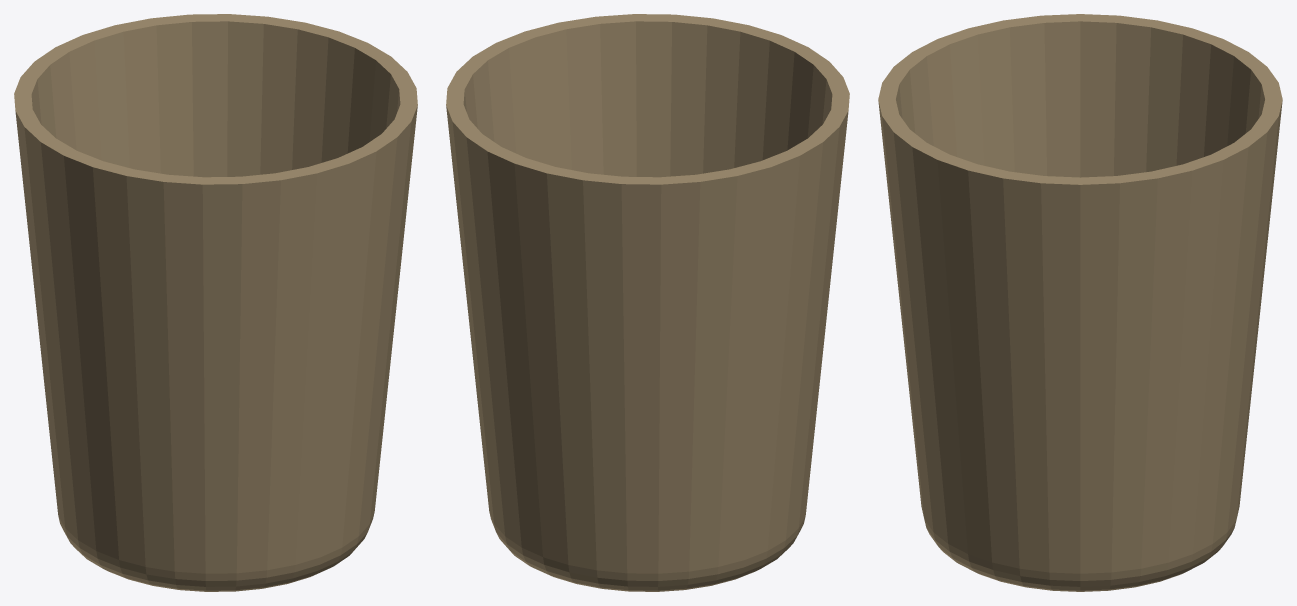
Rendered from gelas kumur.fbx.
The picture shows the model from 3 angles, left to right: view 1: azimuth 30°, elevation 25°; view 2: azimuth 150°, elevation 25°; view 3: azimuth 270°, elevation 25°; orthographic projection.
Parts seen in each view (by area): view 1: Cylinder; view 2: Cylinder; view 3: Cylinder.
Part boxes in pixels (x1,y1,x2,y2): Cylinder: (14,14,417,591); Cylinder: (446,14,849,591); Cylinder: (878,14,1282,591).
Size of the model in its own units: 259 by 306 by 259.
